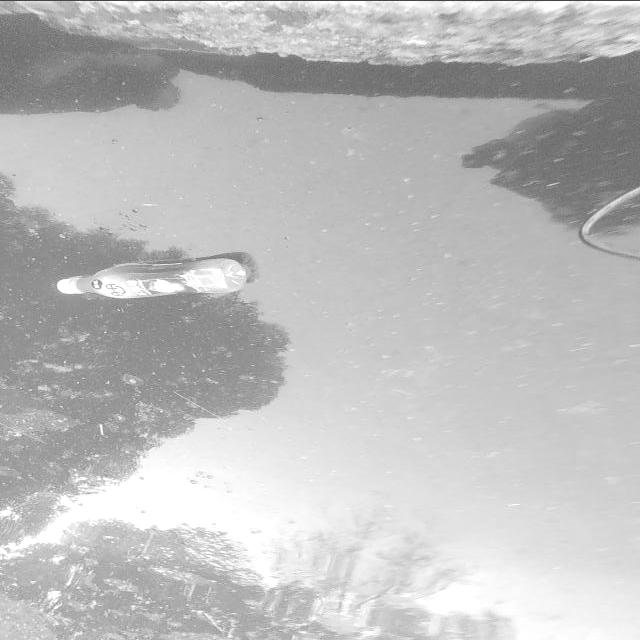bottle: (18, 229, 298, 325)
